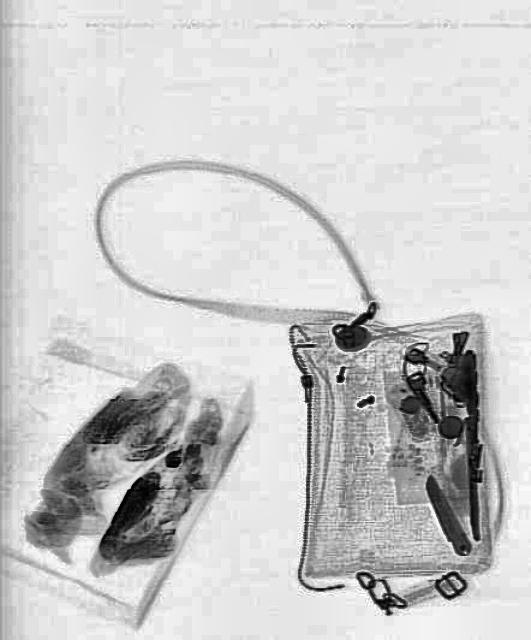Knife: (416, 470, 474, 560)
